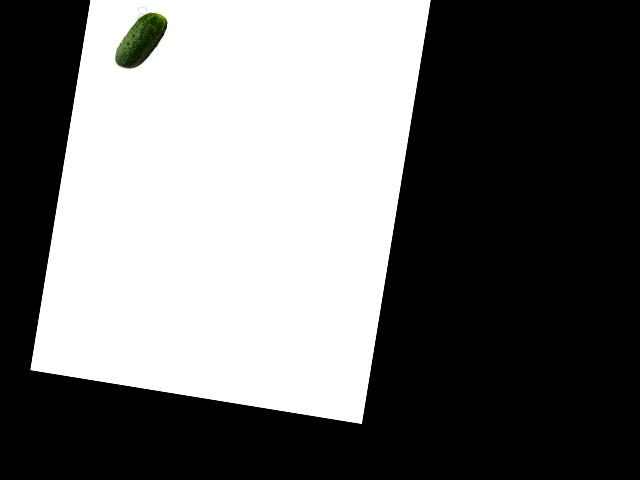cucumber: (113, 7, 168, 73)
